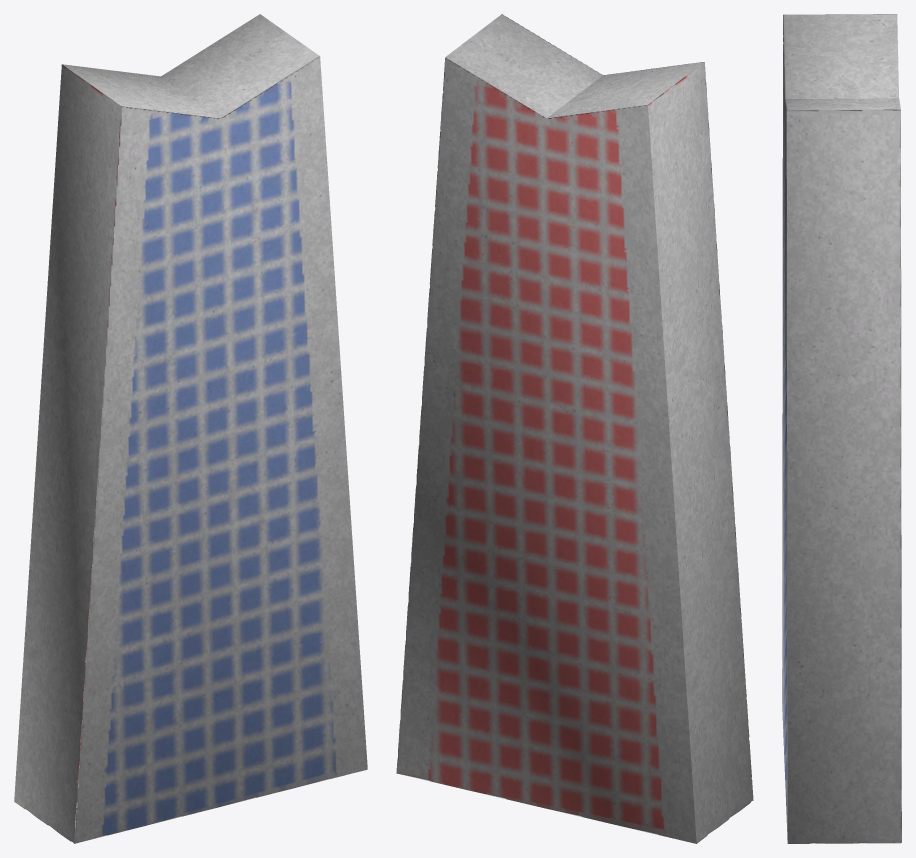
Rendered from DragonSpineSupport.fbx.
3 views of the same model, side by side, from view 1: azimuth 30°, elevation 25°; view 2: azimuth 150°, elevation 25°; view 3: azimuth 270°, elevation 25° (orthographic). The views are drawn at different scales.
Visible parts, largest first — view 1: spine support_01; view 2: spine support_01; view 3: spine support_01.
Part boxes in pixels (x1=…): spine support_01: x1=14, y1=14, x2=367, y2=843; spine support_01: x1=396, y1=14, x2=753, y2=843; spine support_01: x1=782, y1=14, x2=901, y2=843.
Bounding box in the file's own units: 266 × 617 × 94.32.
